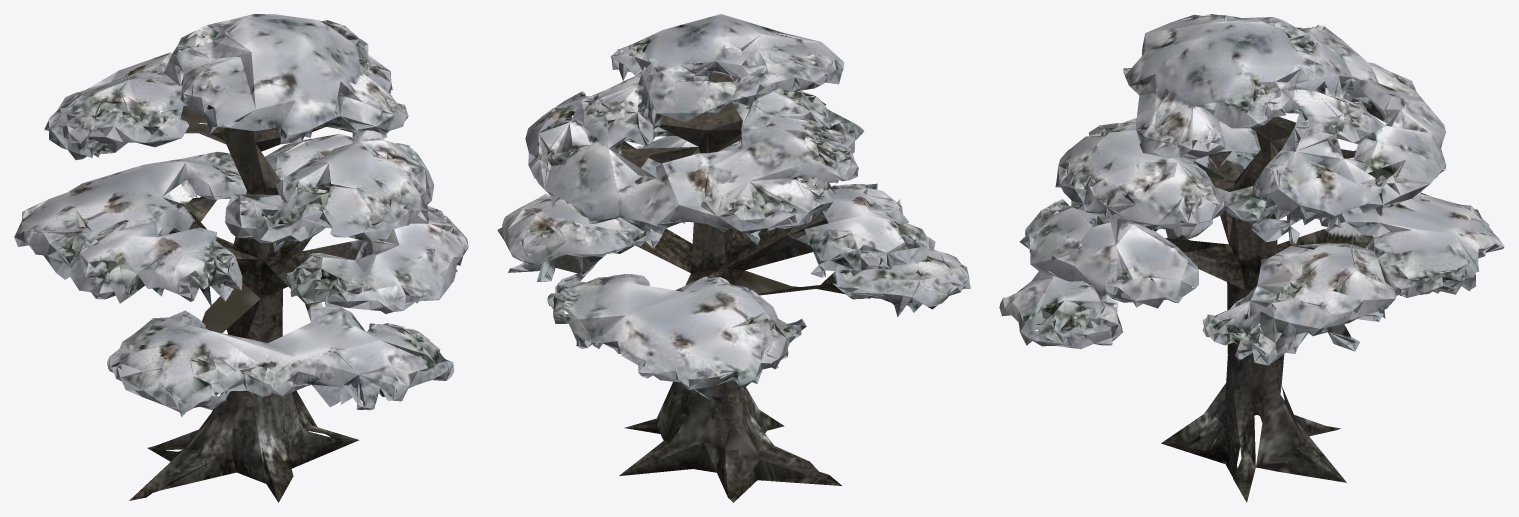
Rendered from pine.glb.
The picture shows the model from 3 angles, left to right: view 1: azimuth 30°, elevation 25°; view 2: azimuth 150°, elevation 25°; view 3: azimuth 270°, elevation 25°; orthographic projection. The views are drawn at different scales.
Parts seen in each view (by area): view 1: pine; view 2: pine; view 3: pine.
Part boxes in pixels (x1,y1,x2,y2): pine: (14, 14, 468, 502); pine: (497, 14, 970, 502); pine: (999, 14, 1504, 502).
Bounding box in the file's own units: 3.31 × 3.6 × 3.79.
Materials: 1 (1 with a texture image).
